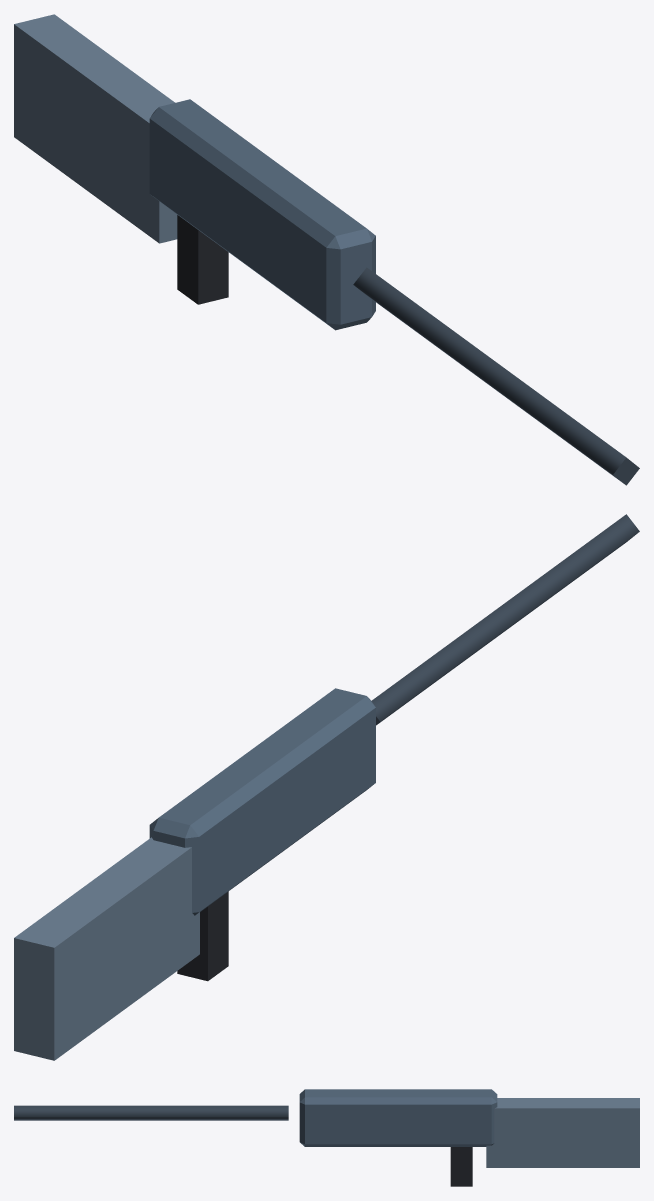
3 renders of one model, top to bottom at view 1: azimuth 30°, elevation 25°; view 2: azimuth 150°, elevation 25°; view 3: azimuth 270°, elevation 25°, orthographic. The views are drawn at different scales.
Visible parts, largest first — view 1: dweller_weapon_patrol_rifle; view 2: dweller_weapon_patrol_rifle; view 3: dweller_weapon_patrol_rifle.
Part boxes in pixels (x1,y1,x2,y2): dweller_weapon_patrol_rifle: [14, 14, 639, 485]; dweller_weapon_patrol_rifle: [14, 514, 639, 1060]; dweller_weapon_patrol_rifle: [14, 1089, 639, 1186].
Size of the model in its own units: 0.055 by 0.18 by 1.14.
